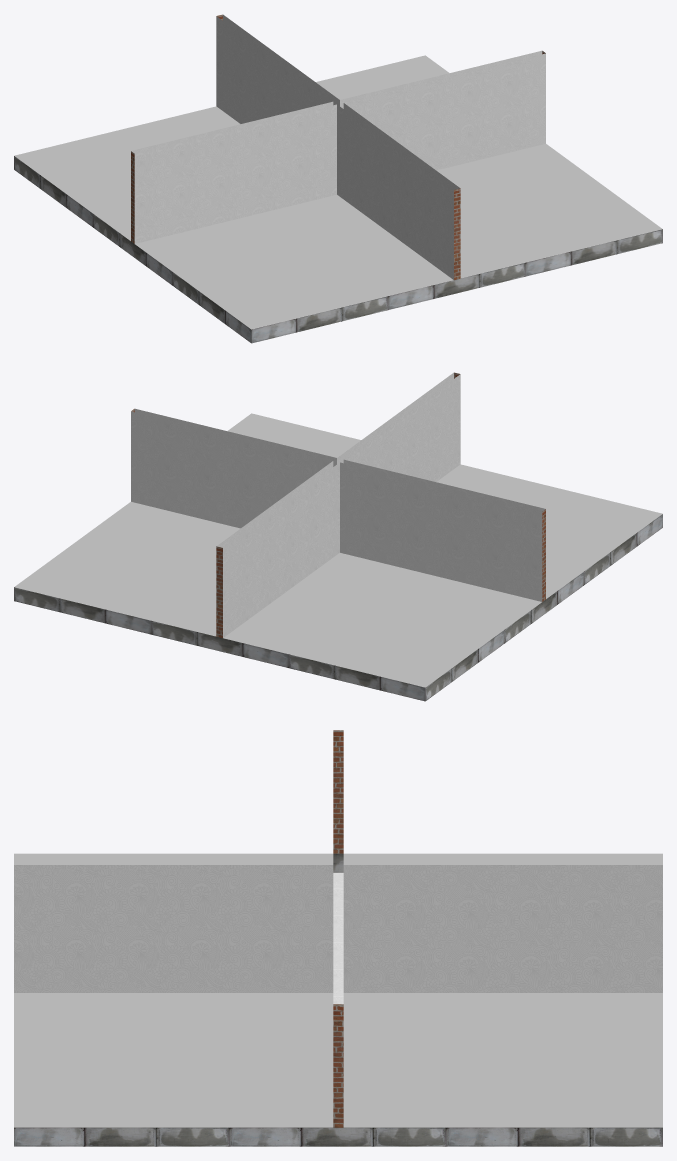
File: floor_stand.fbx
3 renders of one model, top to bottom at view 1: azimuth 30°, elevation 25°; view 2: azimuth 150°, elevation 25°; view 3: azimuth 270°, elevation 25°, orthographic. The views are drawn at different scales.
Visible parts, largest first — view 1: Floor; view 2: Floor; view 3: Floor.
Part boxes in pixels (x1,y1,x2,y2): Floor: (14, 14, 662, 343); Floor: (14, 372, 662, 701); Floor: (14, 730, 662, 1146).
Size of the model in its own units: 12.4 by 3 by 12.4.
